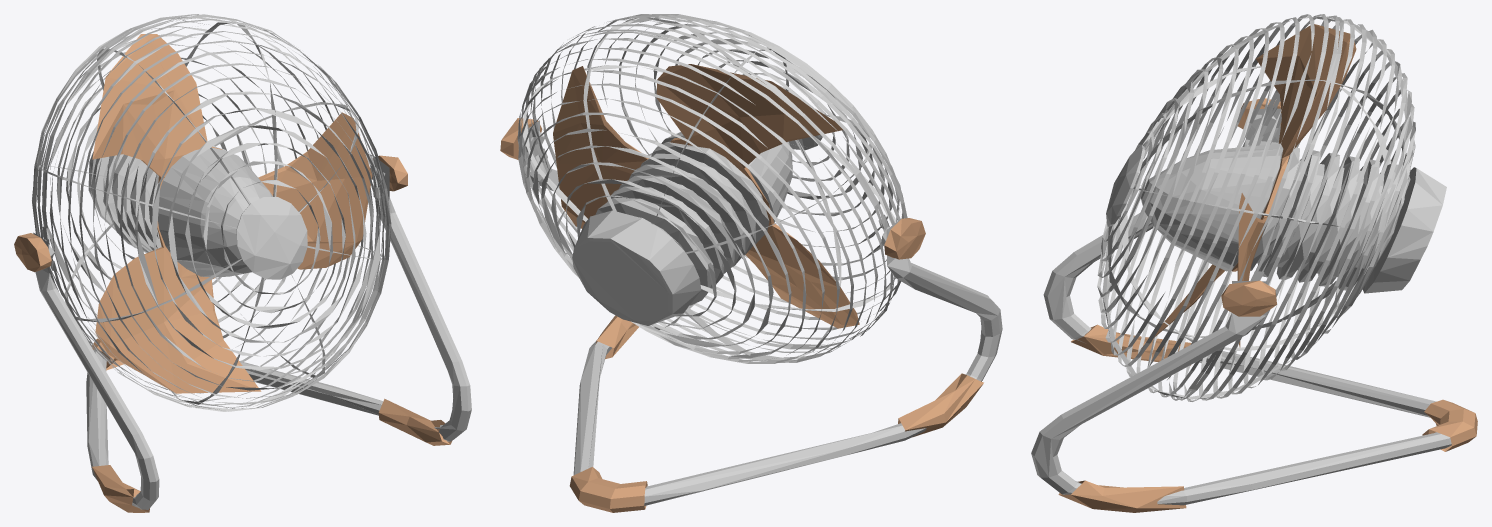
File: sh-bs0-rigged-fan.glb
3 renders of one model, left to right at view 1: azimuth 30°, elevation 25°; view 2: azimuth 150°, elevation 25°; view 3: azimuth 270°, elevation 25°, orthographic. The views are drawn at different scales.
Parts seen in each view (by area): view 1: 0clip2L_Cylinder.008, 0blades_Circle.002, 0stand2_Mesh.001, 0adjuster_Cylinder; view 2: 0clip2L_Cylinder.008, 0blades_Circle.002, 0stand2_Mesh.001, 0adjuster_Cylinder; view 3: 0clip2L_Cylinder.008, 0blades_Circle.002, 0stand2_Mesh.001, 0adjuster_Cylinder.
Part boxes in pixels (x1,y1,x2,y2): 0clip2L_Cylinder.008: (32,14,471,509); 0blades_Circle.002: (92,34,372,393); 0stand2_Mesh.001: (92,338,451,512); 0adjuster_Cylinder: (14,155,407,272); 0clip2L_Cylinder.008: (517,14,1002,505); 0blades_Circle.002: (553,64,859,328); 0stand2_Mesh.001: (569,315,983,512); 0adjuster_Cylinder: (500,118,925,259); 0clip2L_Cylinder.008: (1031,14,1451,505); 0blades_Circle.002: (1140,24,1356,349); 0stand2_Mesh.001: (1058,324,1477,512); 0adjuster_Cylinder: (1221,98,1281,316).
Bounding box in the file's own units: 1 × 0.9986 × 0.9999.
